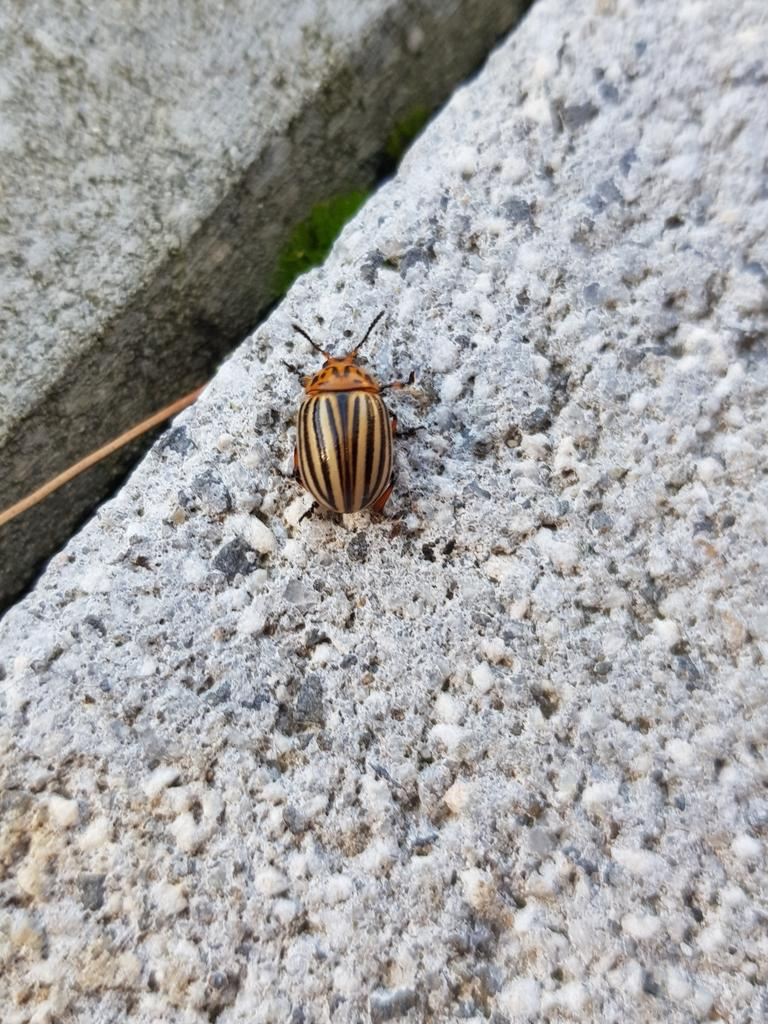potato_beetle: (232, 277, 464, 558)
